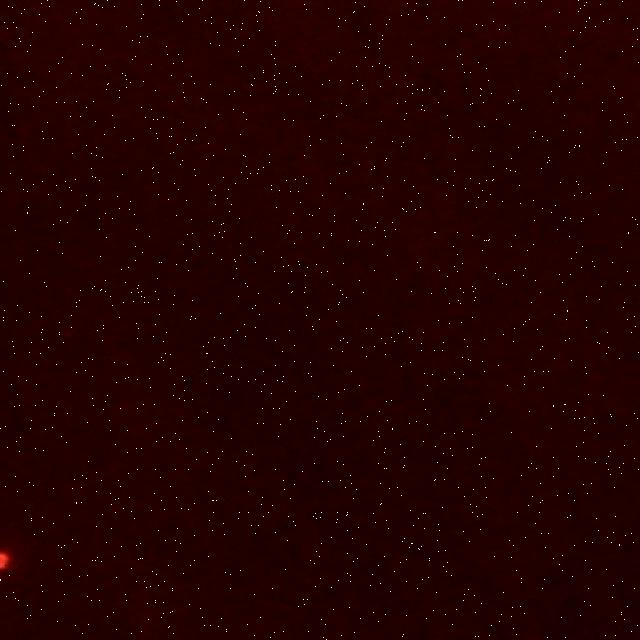Fragment: (0, 552, 10, 571)
